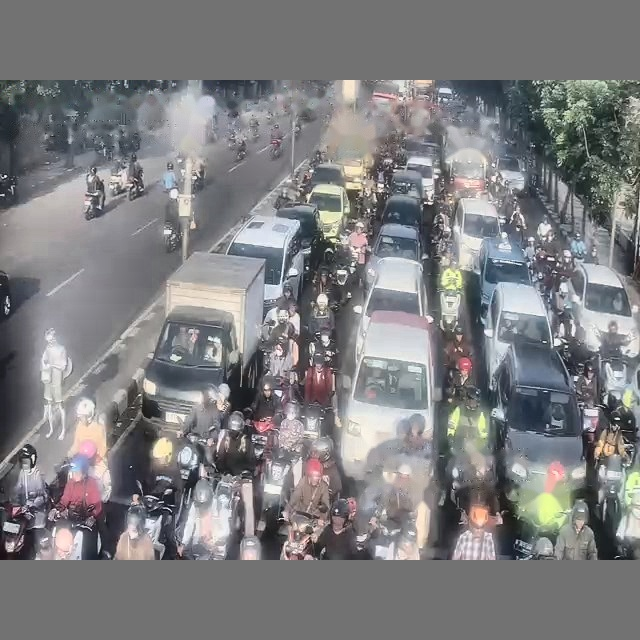Mobil: (340, 310, 440, 478), (491, 343, 585, 494), (481, 282, 558, 390), (353, 257, 429, 360), (226, 215, 303, 316), (569, 264, 639, 357), (476, 233, 531, 316), (365, 223, 428, 289), (453, 198, 503, 270), (276, 203, 323, 273), (308, 184, 350, 243), (381, 194, 423, 231), (405, 155, 434, 205), (404, 135, 441, 172), (495, 155, 526, 194), (390, 170, 423, 203), (310, 163, 346, 187), (0, 271, 12, 318)
Motor: (176, 433, 205, 525), (598, 455, 624, 536), (141, 495, 173, 559), (280, 512, 317, 559), (2, 504, 33, 558), (440, 290, 461, 331), (0, 173, 16, 205), (84, 192, 99, 219), (127, 178, 143, 200), (269, 139, 282, 160)
Truk: (142, 252, 264, 429)
